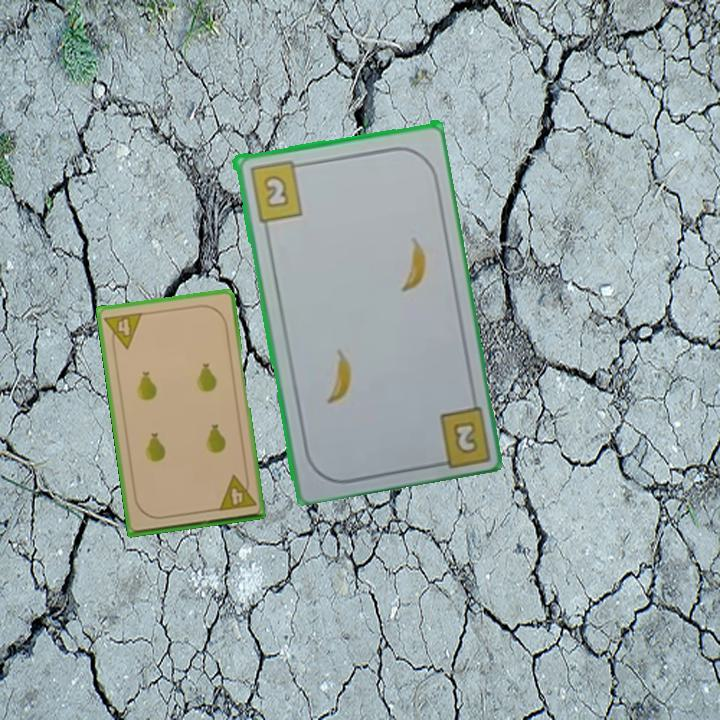2b: (245, 156, 307, 224), (449, 417, 481, 457)
4p: (101, 309, 145, 353), (214, 471, 259, 514)
